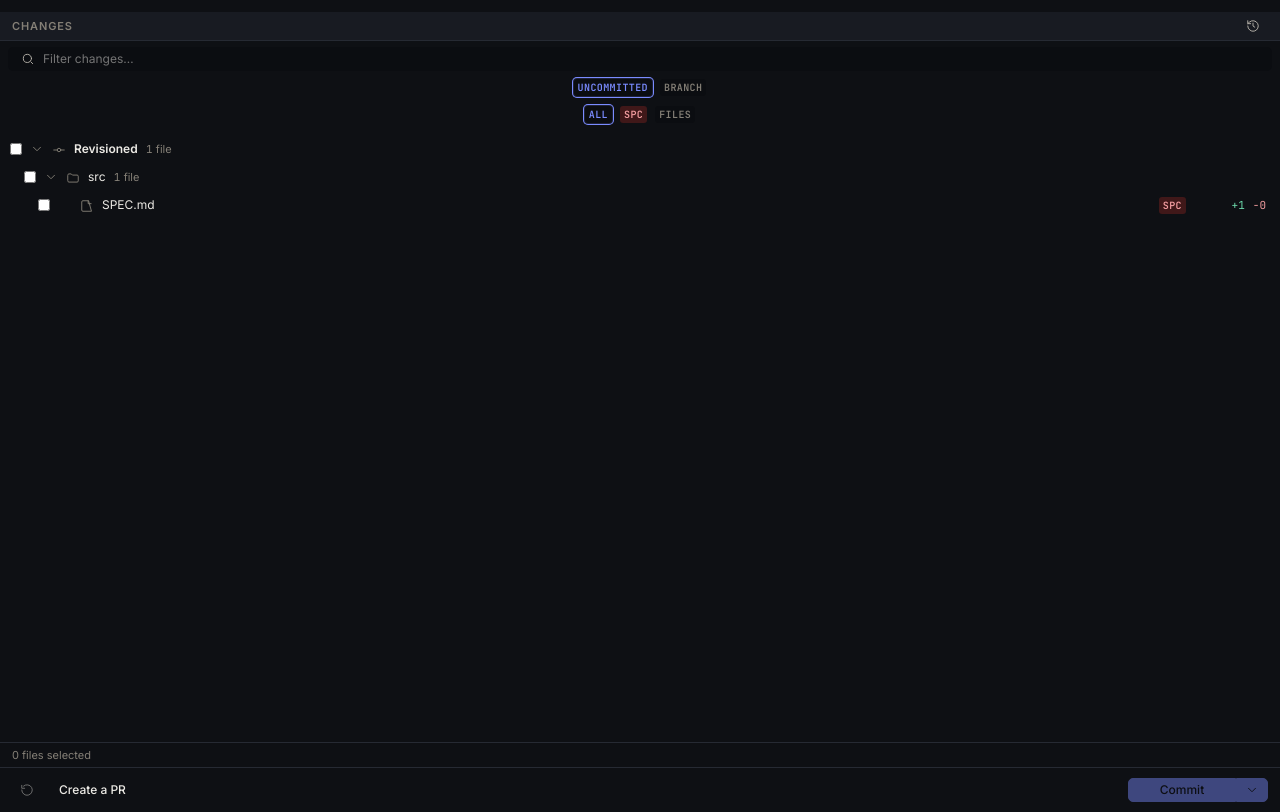
Test: folder and group counts (CHG-FR-50..FR-53) › counts what the filters admit, not what the change set holds (CHG-FR-52)
The width and height of the screenshot is (1280, 812).
Click the radio button labelled "Files" at (675, 114), box 653,104 -> 697,125
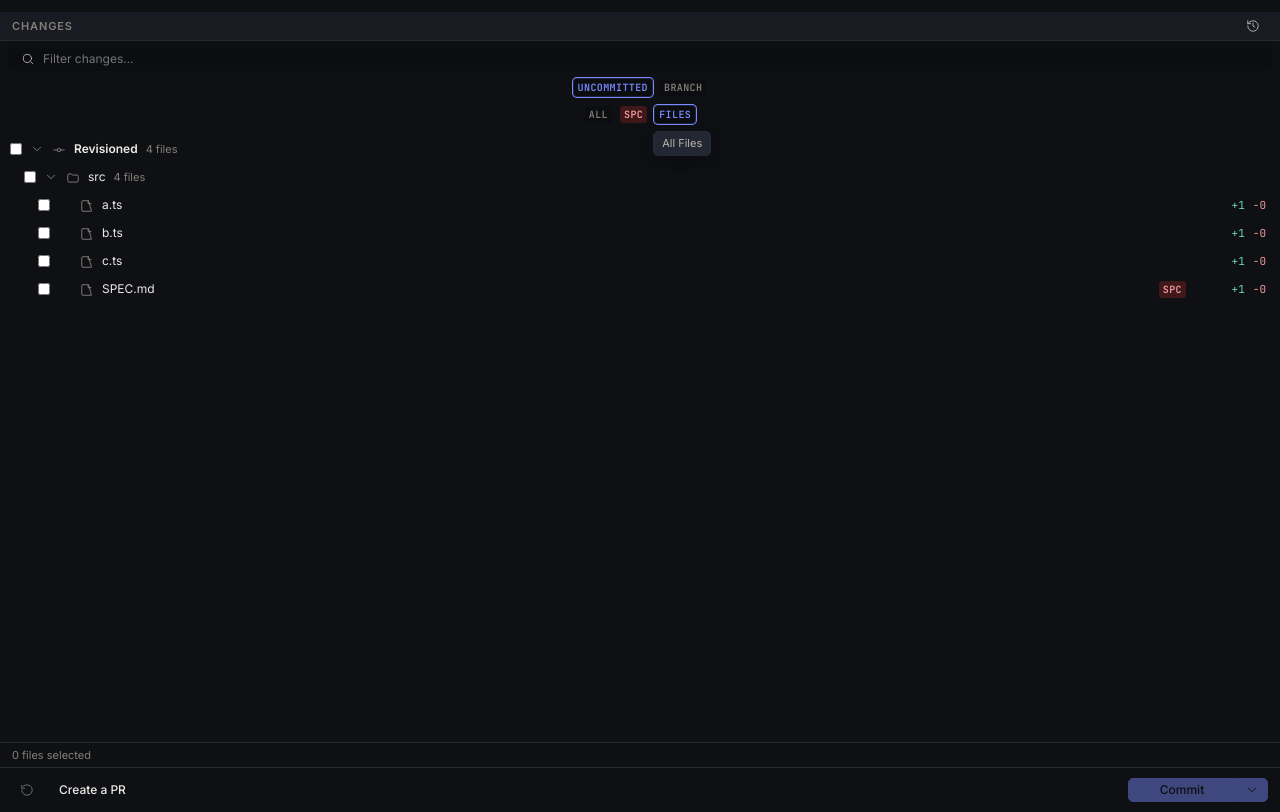
Now the text "a.ts" is shown, box 102,197 -> 122,212
Now the text "4 files" next to "Revisioned" is shown, box 146,141 -> 177,157
Click the radio button labelled "All" at (598, 114), box 583,104 -> 614,125
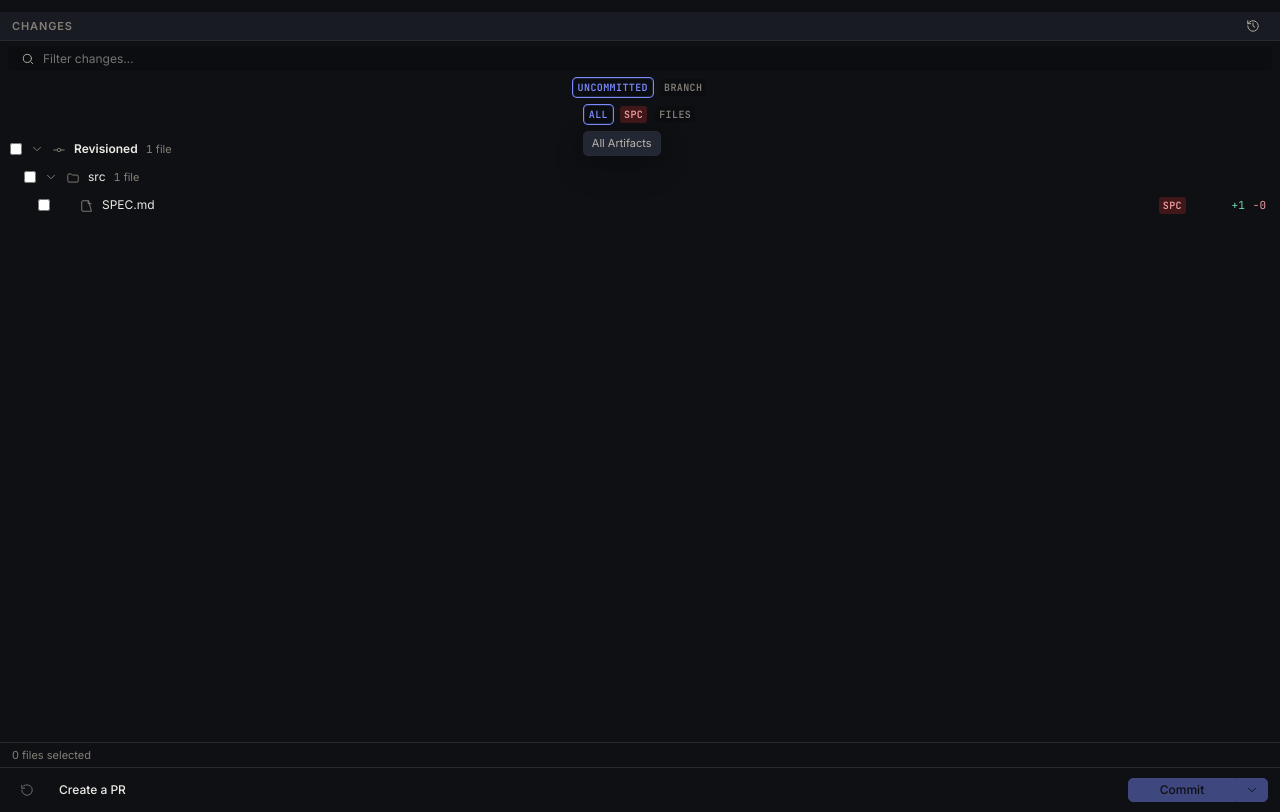
Now the text "1 file" next to "Revisioned" is shown, box 146,141 -> 172,157
